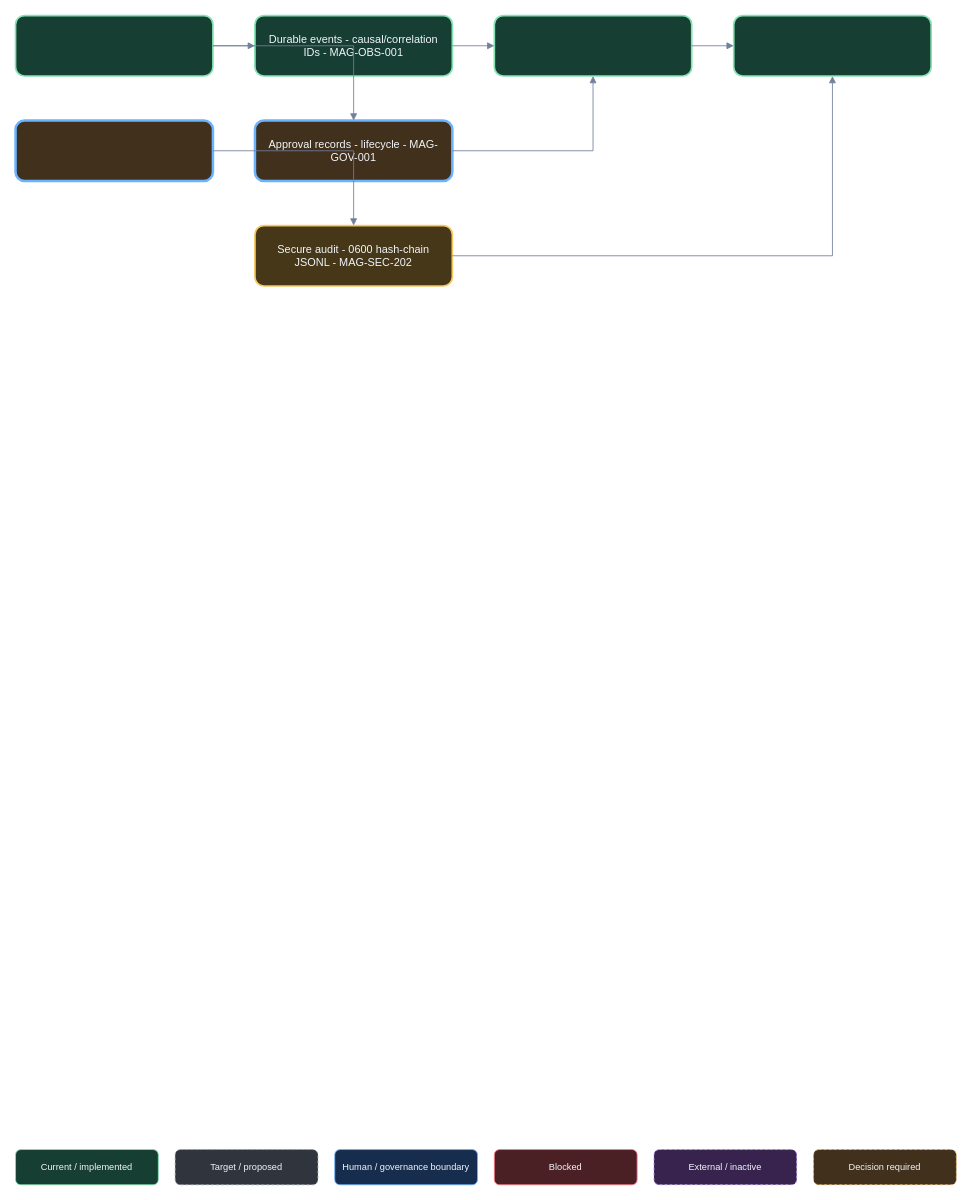
Some shapes in this 971 by 1200 pixel diagram are drawn without their labels. Here are the shapes that lost their labels. From the top down, the box of each, then its label:
(14, 14, 213, 76): Runtime - MAG-ORC-001
(493, 14, 692, 76): Persistence - SQLite SQLModel today - MAG-MEM-001
(732, 14, 932, 76): Replay/reconstruct state - MAG-OBS-001
(14, 119, 214, 182): Capability gate - MAG-GOV-001
